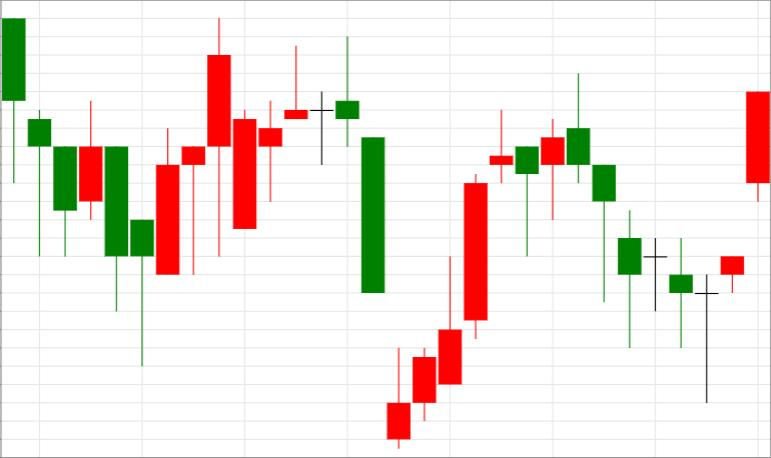hammer_rise: (1, 18, 154, 366)
